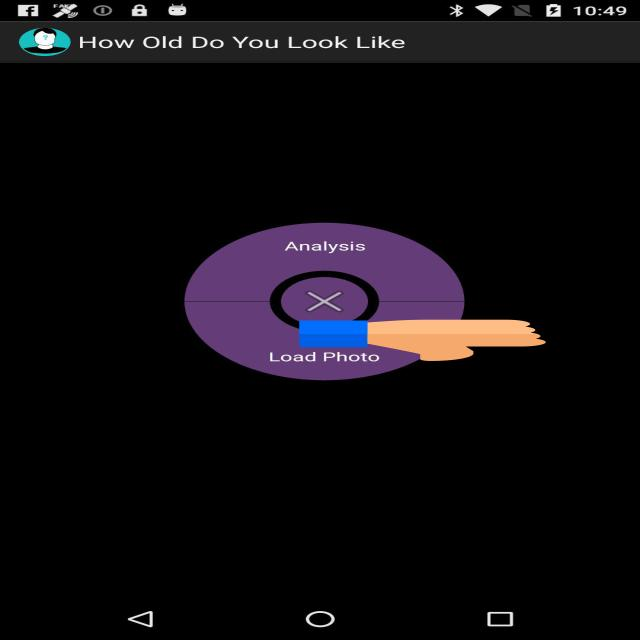obstruction: (299, 319, 546, 362)
